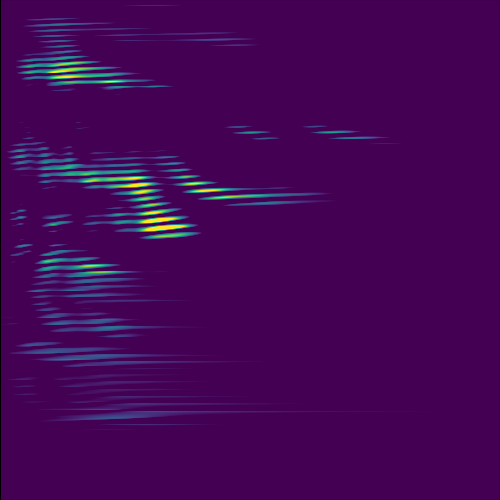semblance: (42, 51, 126, 97), (126, 191, 191, 245), (79, 167, 160, 195)
